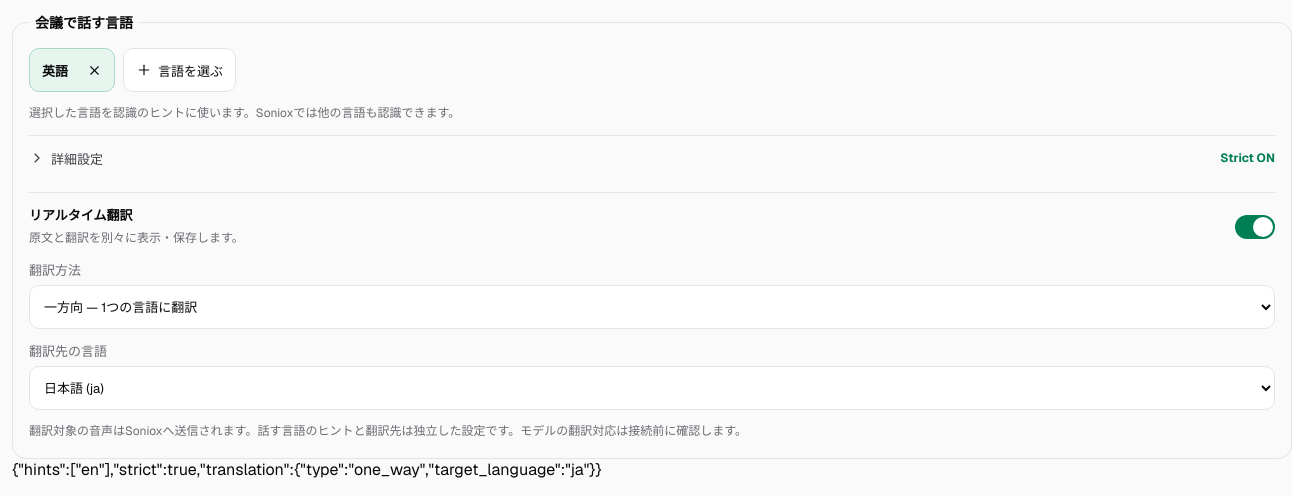
Test: meeting language selection › returns to automatic when removing the last tag and preserves translation settings
Click the button named "英語を外す" at {"x": 94, "y": 70}, box top-left (74, 50), bottom-right (114, 90)
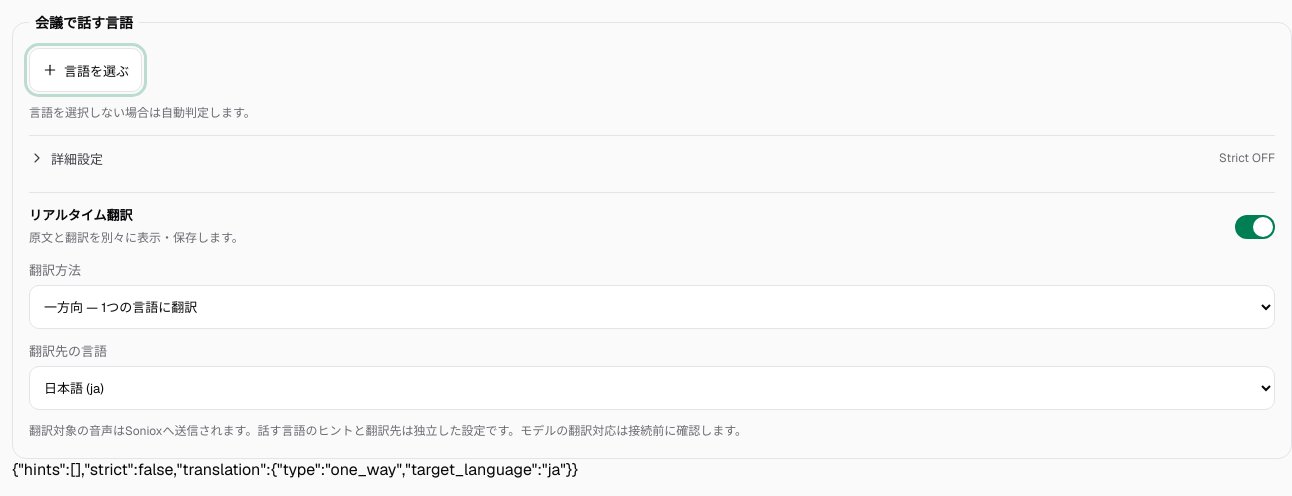
Expected: the element named "文字起こし言語" does not show "自動判定"
Expected: the text "{\"hints\":[],\"strict\":false,\"translation\":{\"type\":\"one_way\",\"target_language\":\"ja\"}}" is shown, top-left (12, 459), bottom-right (578, 480)
Expected: the text named "文字起こし言語" no longer shows "英語"
